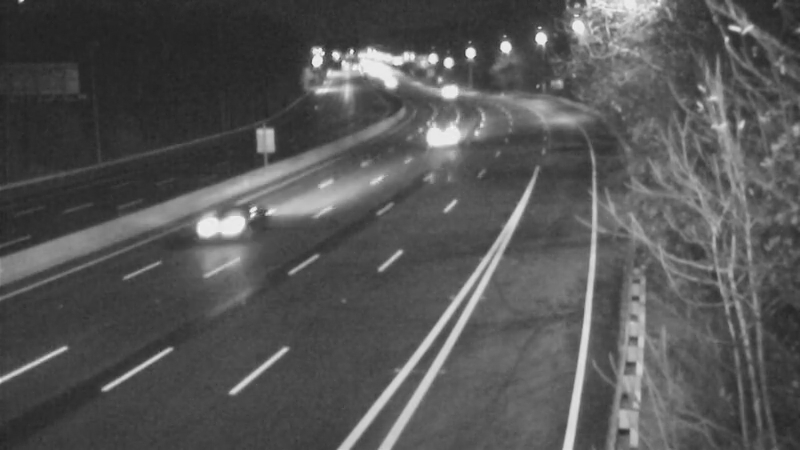vehicle: (182, 184, 262, 264), (425, 67, 475, 117), (421, 109, 471, 159)
